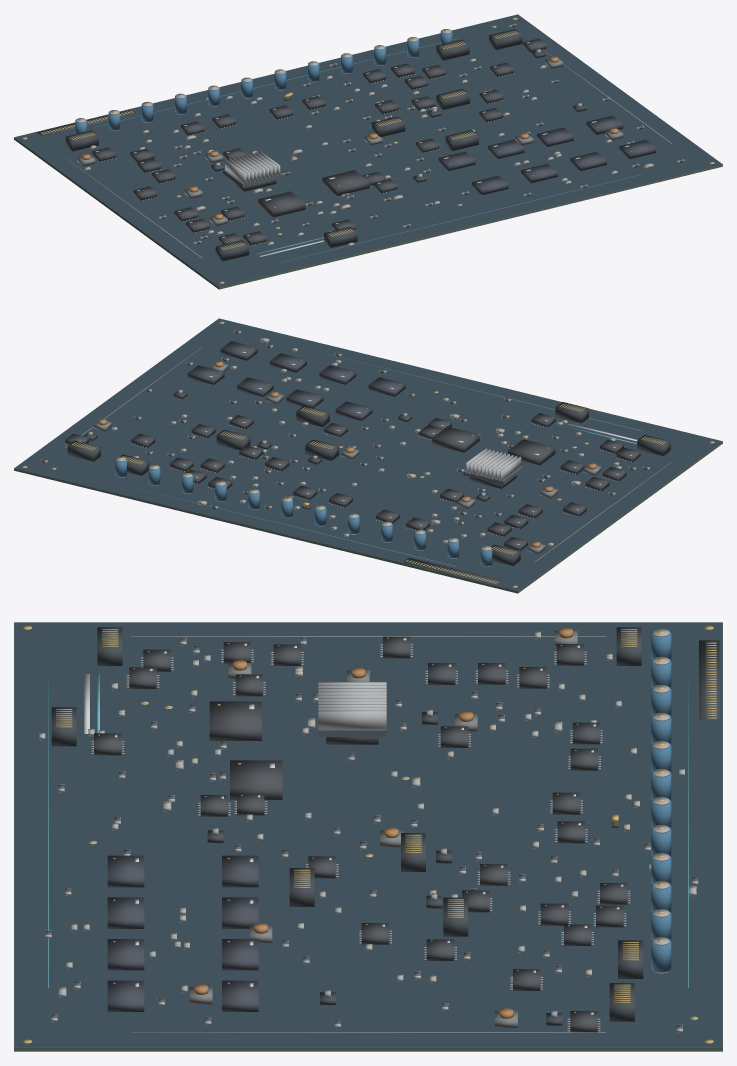
The model's file is 257_L116_AssembledReference.glb.
The picture shows the model from 3 angles, top to bottom: view 1: azimuth 30°, elevation 25°; view 2: azimuth 150°, elevation 25°; view 3: azimuth 270°, elevation 25°; orthographic projection. The views are drawn at different scales.
Parts seen in each view (by area): view 1: __PSMAT__PCB_Carbon, __PSMAT__IC_MatteBlack, __PSMAT__Connector_Polymer, __PSMAT__NAND_Epoxy, __PSMAT__Supercap_Sleeve, __PSMAT__FR4_Core, __PSMAT__Tin_Lead, __PSMAT__Aluminum_Brushed, __PSMAT__Capacitor_Ceramic, __PSMAT__Gold_ENIG, __PSMAT__Inductor_Ferrite, __PSMAT__Resistor_Ceramic (+3 smaller); view 2: __PSMAT__PCB_Carbon, __PSMAT__IC_MatteBlack, __PSMAT__Connector_Polymer, __PSMAT__NAND_Epoxy, __PSMAT__Supercap_Sleeve, __PSMAT__FR4_Core, __PSMAT__Tin_Lead, __PSMAT__Aluminum_Brushed, __PSMAT__Capacitor_Ceramic, __PSMAT__Gold_ENIG, __PSMAT__Resistor_Ceramic, __PSMAT__Inductor_Ferrite (+3 smaller); view 3: __PSMAT__PCB_Carbon, __PSMAT__IC_MatteBlack, __PSMAT__Connector_Polymer, __PSMAT__NAND_Epoxy, __PSMAT__Tin_Lead, __PSMAT__Supercap_Sleeve, __PSMAT__FR4_Core, __PSMAT__Gold_ENIG, __PSMAT__Aluminum_Brushed, __PSMAT__Inductor_Ferrite, __PSMAT__Silkscreen_White, __PSMAT__Capacitor_Ceramic (+4 smaller).
Boxes of the visible parts, x1,y1,x2,y2 form: __PSMAT__PCB_Carbon: (14, 14, 722, 286); __PSMAT__IC_MatteBlack: (92, 38, 546, 245); __PSMAT__Connector_Polymer: (37, 29, 586, 261); __PSMAT__NAND_Epoxy: (438, 115, 656, 195); __PSMAT__Supercap_Sleeve: (75, 30, 452, 134); __PSMAT__FR4_Core: (14, 23, 722, 289); __PSMAT__Tin_Lead: (85, 23, 684, 246); __PSMAT__Aluminum_Brushed: (225, 151, 280, 183); __PSMAT__Capacitor_Ceramic: (86, 58, 652, 246); __PSMAT__Gold_ENIG: (22, 17, 714, 283); __PSMAT__Inductor_Ferrite: (77, 59, 623, 225); __PSMAT__Resistor_Ceramic: (160, 23, 683, 244); __PSMAT__PCB_Carbon: (14, 318, 722, 590); __PSMAT__IC_MatteBlack: (65, 413, 640, 550); __PSMAT__Connector_Polymer: (67, 391, 670, 584); __PSMAT__NAND_Epoxy: (187, 341, 405, 420); __PSMAT__Supercap_Sleeve: (115, 458, 492, 566); __PSMAT__FR4_Core: (14, 327, 722, 593); __PSMAT__Tin_Lead: (40, 330, 649, 549); __PSMAT__Aluminum_Brushed: (466, 448, 521, 480); __PSMAT__Capacitor_Ceramic: (112, 337, 620, 546); __PSMAT__Gold_ENIG: (22, 321, 714, 587); __PSMAT__Resistor_Ceramic: (41, 329, 648, 524); __PSMAT__Inductor_Ferrite: (93, 363, 601, 553); __PSMAT__PCB_Carbon: (14, 622, 722, 1047); __PSMAT__IC_MatteBlack: (94, 636, 627, 1032); __PSMAT__Connector_Polymer: (51, 627, 719, 1025); __PSMAT__NAND_Epoxy: (107, 855, 258, 1011); __PSMAT__Tin_Lead: (39, 631, 698, 1032); __PSMAT__Supercap_Sleeve: (651, 631, 671, 972); __PSMAT__FR4_Core: (14, 622, 722, 1051); __PSMAT__Gold_ENIG: (23, 625, 716, 1043); __PSMAT__Aluminum_Brushed: (318, 682, 386, 728); __PSMAT__Inductor_Ferrite: (189, 630, 577, 1027); __PSMAT__Silkscreen_White: (84, 636, 623, 1032); __PSMAT__Capacitor_Ceramic: (39, 632, 696, 1008).
Bounding box in the file's own units: 0.44 × 0.0195 × 0.31.
